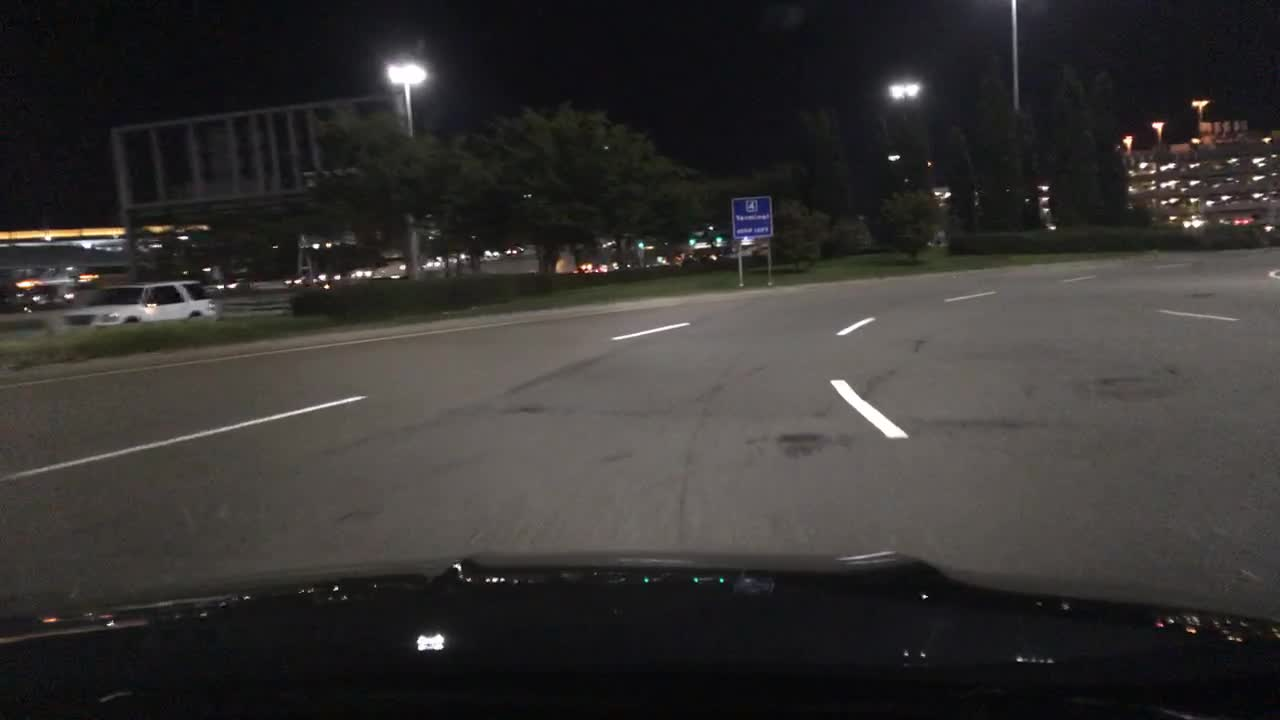car: (62, 278, 224, 330), (346, 257, 412, 281), (0, 277, 34, 313), (30, 281, 74, 307), (681, 245, 723, 265), (215, 274, 249, 295), (571, 261, 609, 278), (312, 269, 343, 285), (660, 249, 683, 270), (284, 271, 309, 289), (420, 255, 443, 270), (502, 243, 524, 255), (482, 249, 500, 259), (459, 251, 474, 263), (445, 251, 458, 264)
traffic light: (633, 236, 645, 252), (713, 234, 724, 243), (688, 235, 697, 245)
traffic sign: (729, 193, 774, 240)
